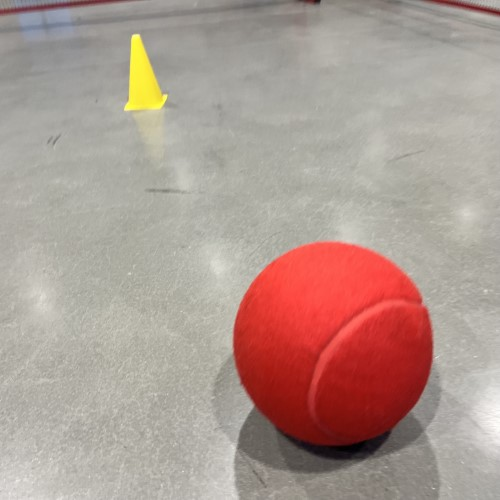red: (228, 238, 438, 451)
